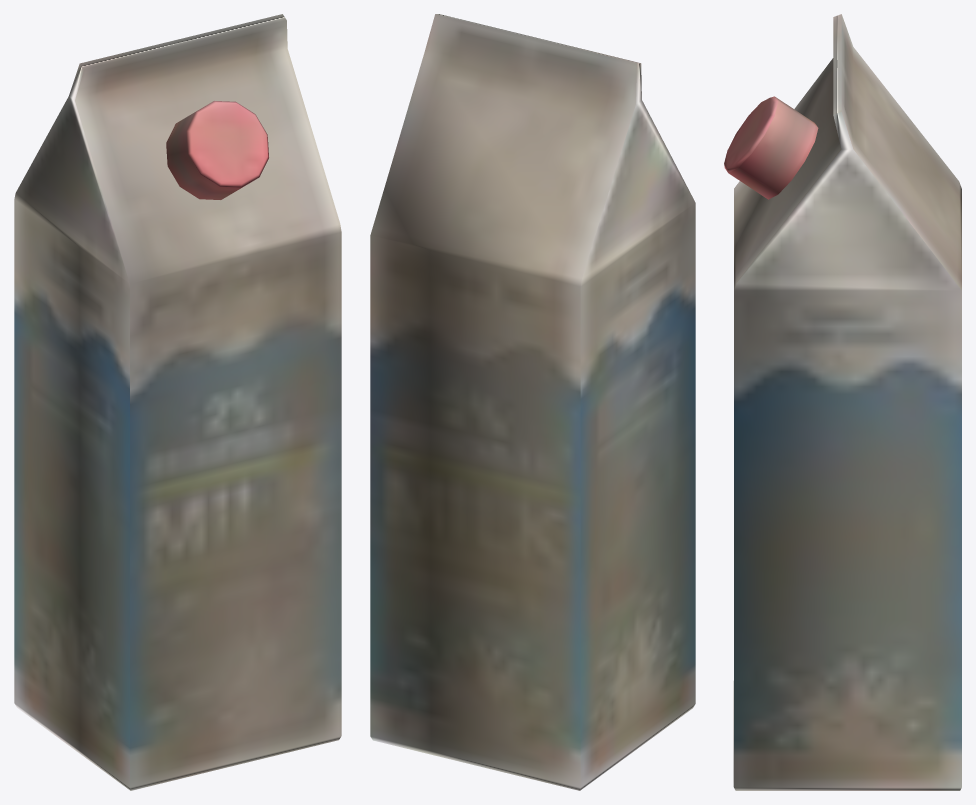
File: milk_carton.glb
3 views of the same model, side by side, from view 1: azimuth 30°, elevation 25°; view 2: azimuth 150°, elevation 25°; view 3: azimuth 270°, elevation 25° (orthographic).
Parts seen in each view (by area): view 1: milk_carton; view 2: milk_carton; view 3: milk_carton.
Boxes of the visible parts, x1,y1,x2,y2 form: milk_carton: [14, 14, 341, 790]; milk_carton: [370, 14, 695, 790]; milk_carton: [724, 14, 961, 790].
Bounding box in the file's own units: 0.0954 × 0.2945 × 0.0936.
1 material, 1 textured.
